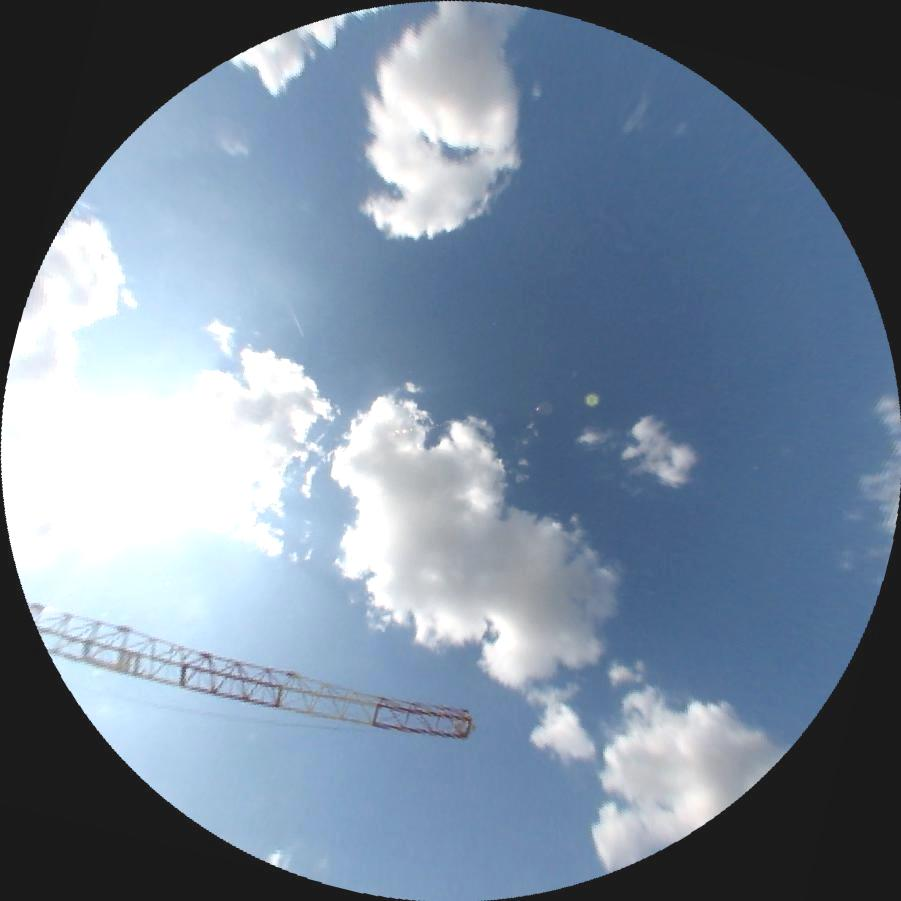contrail young: (282, 292, 305, 338)
parasite: (34, 411, 105, 433)
sun: (104, 394, 246, 516)
